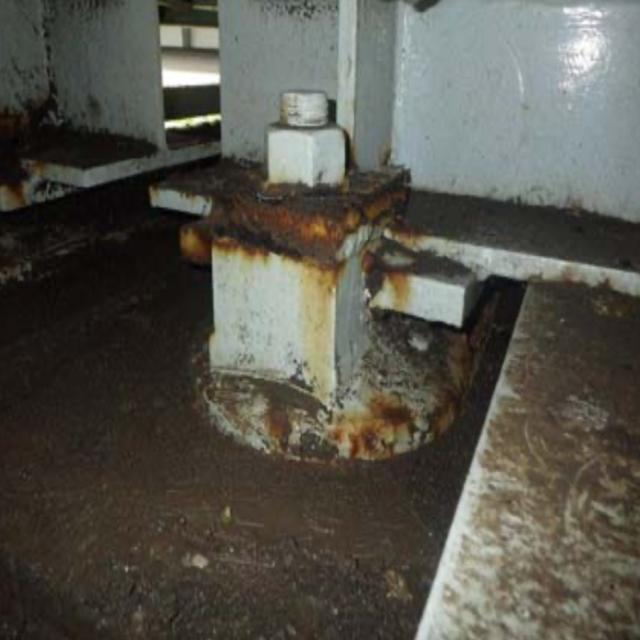corrosion: (9, 90, 488, 449)
